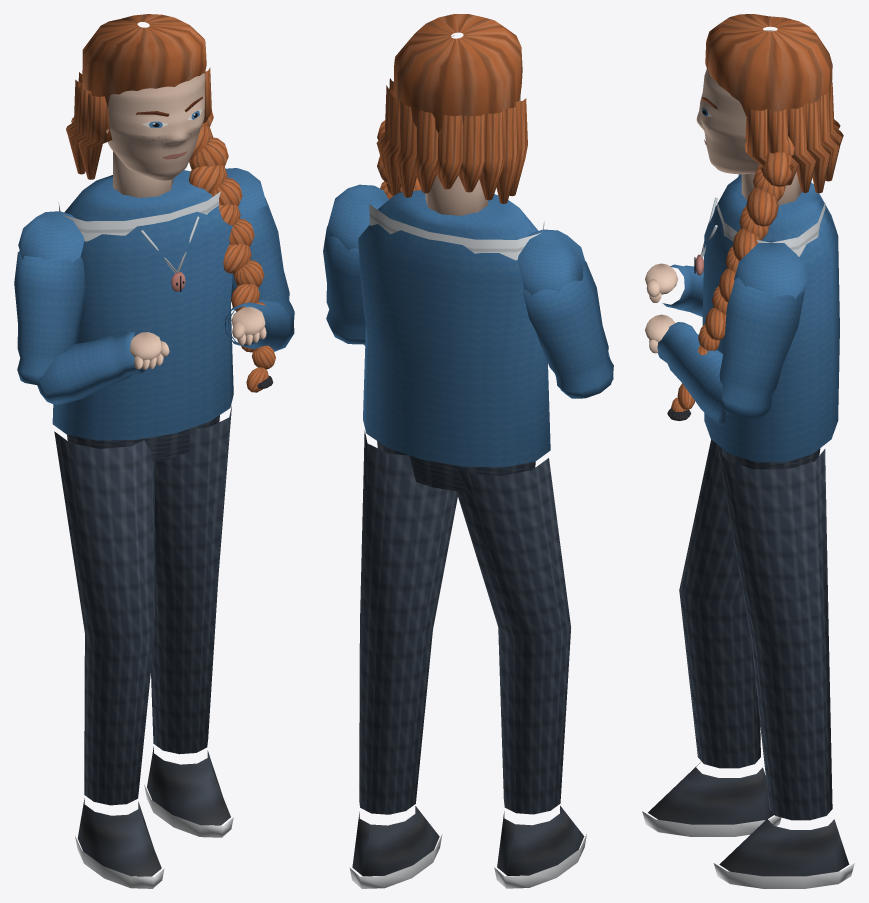
File: HERO-04_emma-standing.glb
The picture shows the model from 3 angles, left to right: view 1: azimuth 30°, elevation 25°; view 2: azimuth 150°, elevation 25°; view 3: azimuth 270°, elevation 25°; orthographic projection. The views are drawn at different scales.
Visible parts, largest first — view 1: emma · soles; view 2: emma · soles; view 3: emma · soles.
Part boxes in pixels (box(x1,y1,x2,y2)): emma · soles: box(14, 14, 294, 888); emma · soles: box(323, 14, 613, 888); emma · soles: box(642, 14, 854, 888).
Bounding box in the file's own units: 0.5746 × 1.64 × 0.3849.
Materials: 2 (2 with a texture image).
